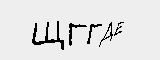Г: (68, 20, 84, 50), (86, 22, 100, 48)
Д: (100, 19, 112, 44)
Е: (113, 19, 125, 39)
Щ: (32, 20, 65, 50)
